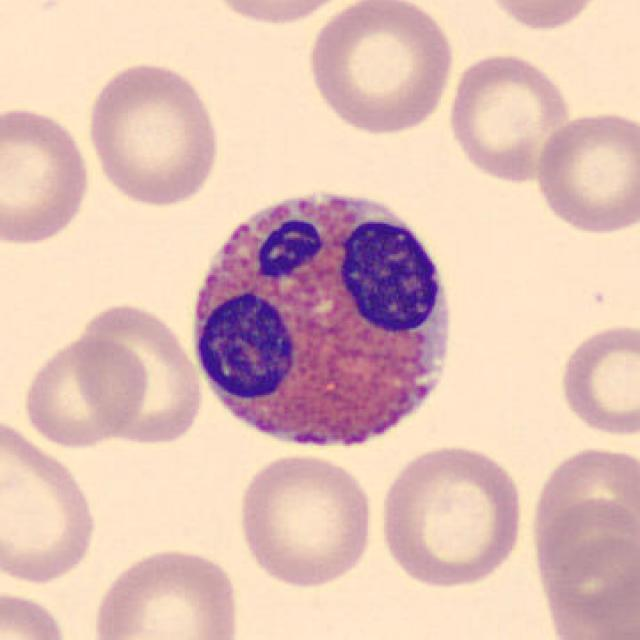Eosinophil: (180, 171, 470, 467)
RBC: (375, 439, 528, 591), (302, 0, 455, 138), (84, 58, 224, 208), (233, 451, 377, 591), (78, 301, 209, 448), (0, 411, 101, 589), (444, 49, 574, 185), (87, 541, 245, 640), (528, 499, 638, 640), (19, 332, 150, 449), (530, 106, 638, 238), (535, 446, 640, 581), (0, 100, 94, 250), (527, 537, 640, 640), (554, 319, 640, 439), (201, 0, 359, 28), (474, 0, 608, 33), (0, 587, 75, 640)
